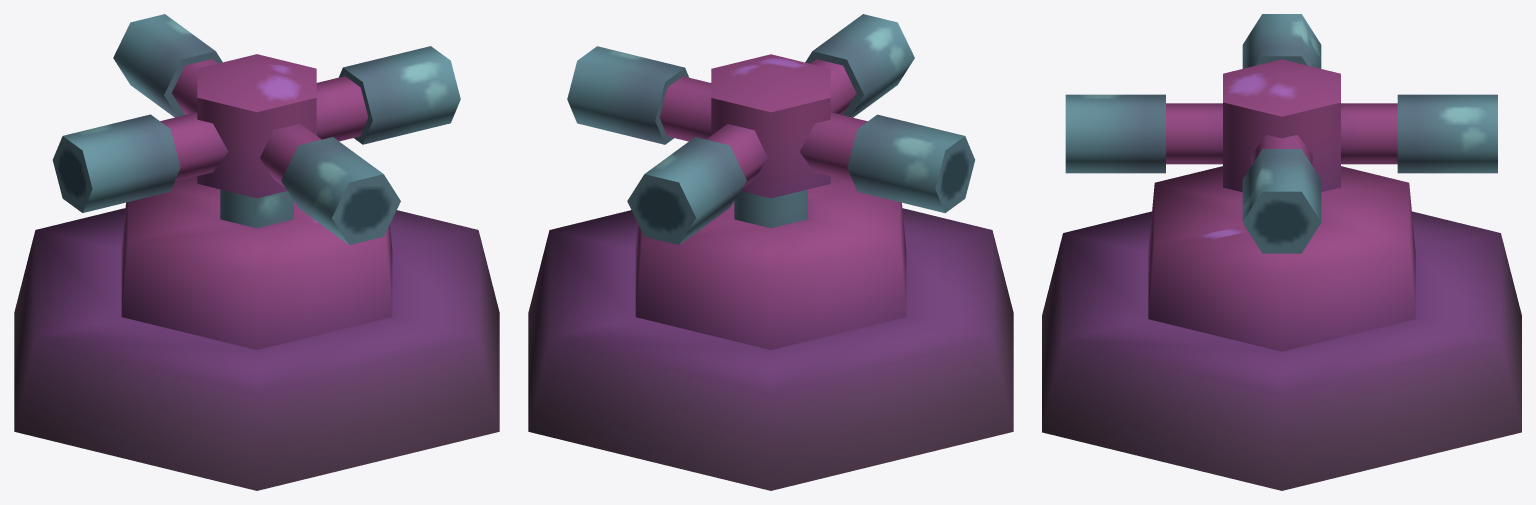
The model's file is sprinkler.fbx.
3 views of the same model, side by side, from view 1: azimuth 30°, elevation 25°; view 2: azimuth 150°, elevation 25°; view 3: azimuth 270°, elevation 25° (orthographic).
Visible parts, largest first — view 1: sprinkler; view 2: sprinkler; view 3: sprinkler.
Boxes of the visible parts, x1,y1,x2,y2 form: sprinkler: (14,14,499,490); sprinkler: (528,14,1013,490); sprinkler: (1042,14,1521,490).
Bounding box in the file's own units: 0.4635 × 0.2782 × 0.4014.
1 material, 1 textured.
